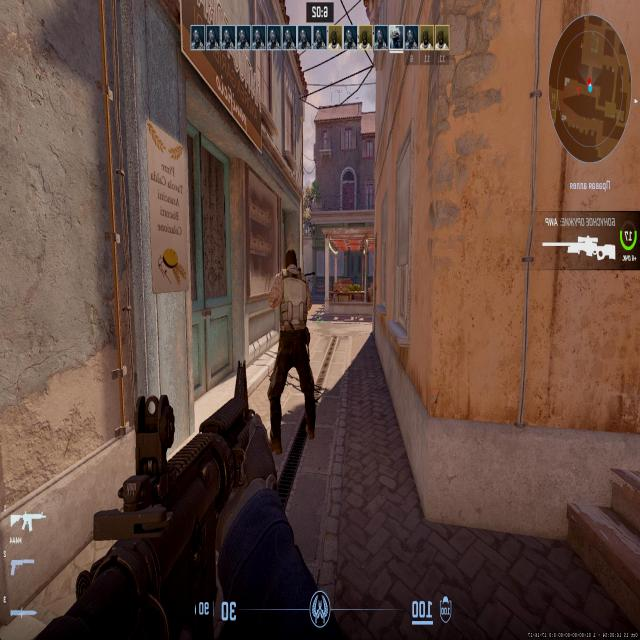T: (272, 256, 304, 428)
T_heat: (284, 258, 294, 278)
